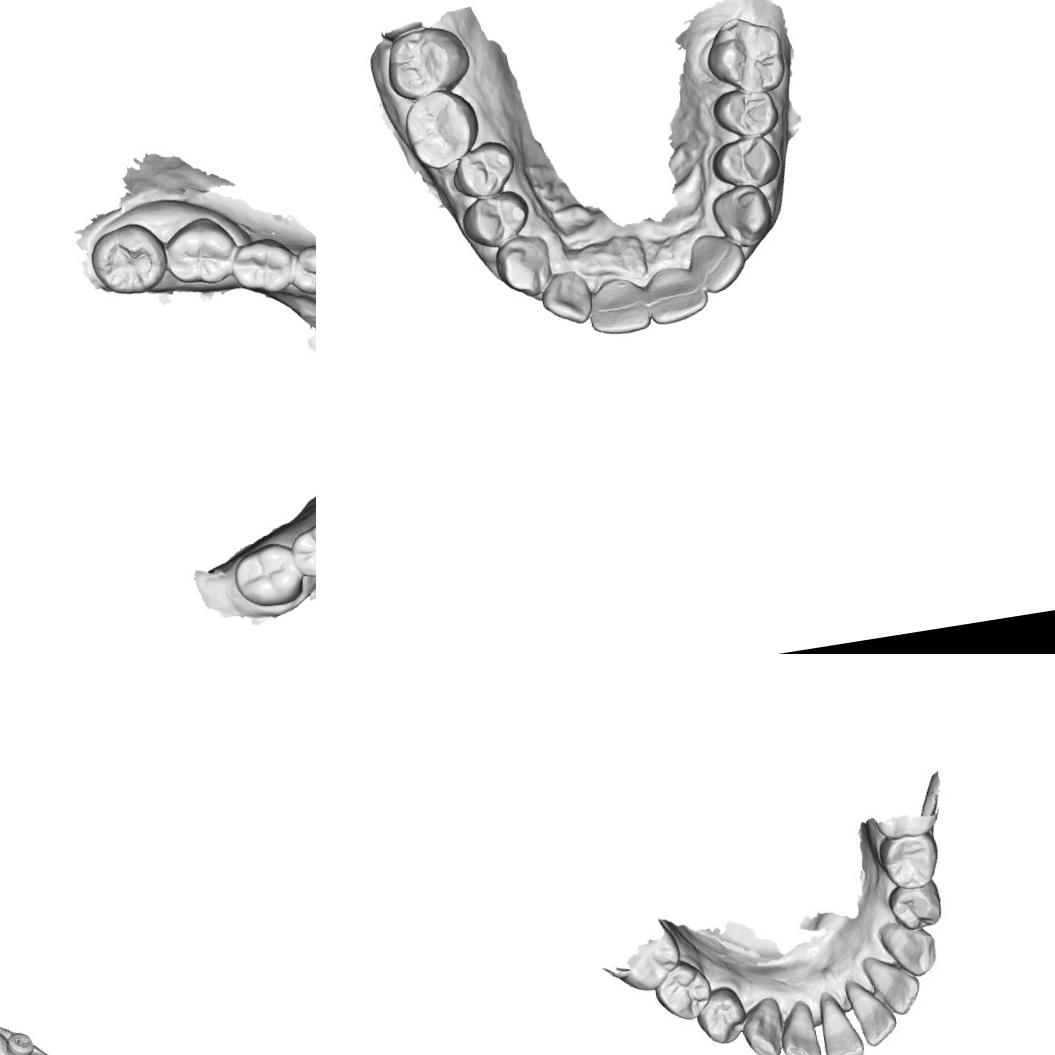canine: (709, 180, 778, 252), (491, 231, 555, 302), (878, 917, 944, 980), (739, 994, 789, 1055)
implant: (1, 1027, 39, 1055)
incisor: (640, 260, 710, 328), (584, 273, 653, 340), (686, 228, 751, 297), (862, 948, 925, 1017), (842, 972, 897, 1048), (537, 268, 595, 330), (819, 998, 864, 1055), (777, 1000, 823, 1055)
molar: (380, 19, 475, 105), (700, 10, 790, 100), (399, 84, 484, 174), (86, 218, 170, 302), (158, 212, 241, 292), (230, 536, 307, 614), (288, 516, 316, 583)
premolar: (457, 188, 535, 253), (650, 954, 719, 1026), (708, 131, 783, 196), (446, 138, 520, 202), (710, 82, 782, 144), (230, 233, 297, 298), (692, 982, 754, 1050), (880, 827, 941, 894), (883, 875, 948, 935), (287, 239, 316, 300)
